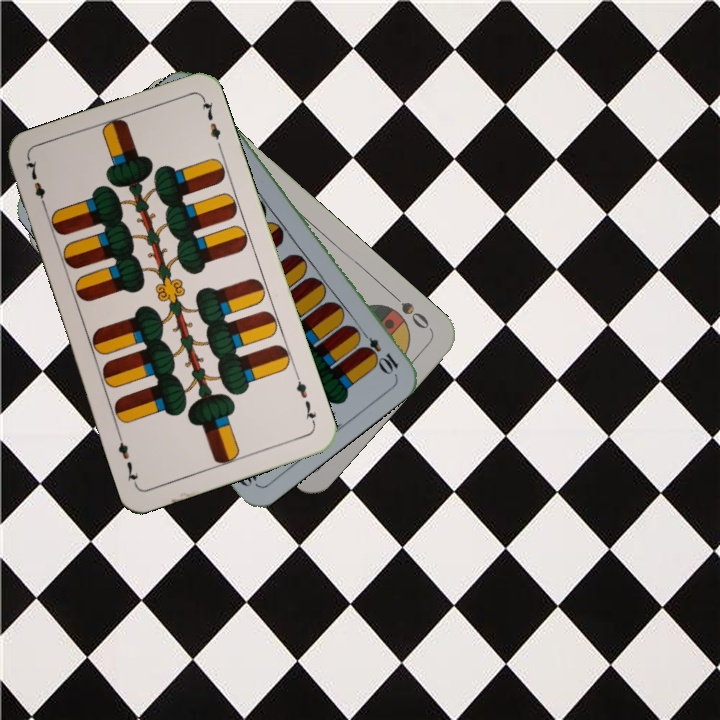E10: (354, 325, 401, 376)
E7: (21, 155, 50, 213), (291, 370, 319, 428)
SO: (386, 288, 434, 333)
